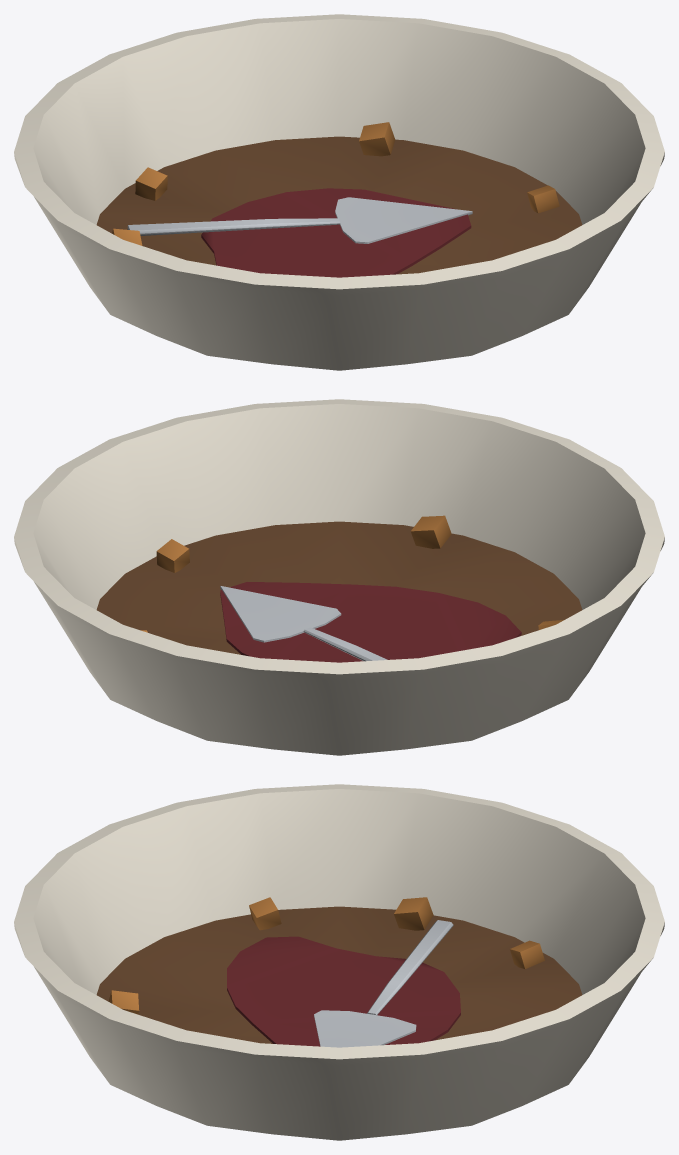
The model's file is pieDishDirty.glb.
The picture shows the model from 3 angles, top to bottom: view 1: azimuth 30°, elevation 25°; view 2: azimuth 150°, elevation 25°; view 3: azimuth 270°, elevation 25°; orthographic projection.
Parts seen in each view (by area): view 1: pieDishDirty; view 2: pieDishDirty; view 3: pieDishDirty.
Boxes of the visible parts, <box> form: pieDishDirty: <box>14,14,664,370</box>; pieDishDirty: <box>14,399,664,755</box>; pieDishDirty: <box>14,784,664,1140</box>.
Size of the model in its own units: 0.336 by 0.063 by 0.336.
